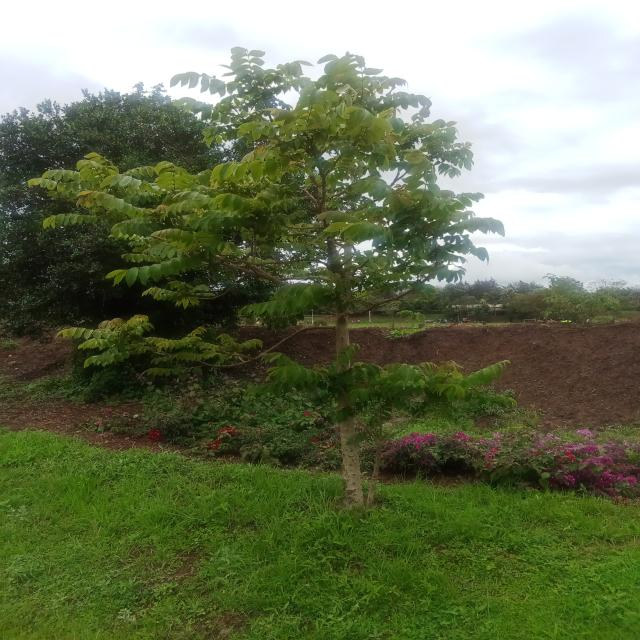Olea europea -africana-: (3, 93, 246, 354)
Polyscias Kikuyensis: (57, 63, 530, 510)
